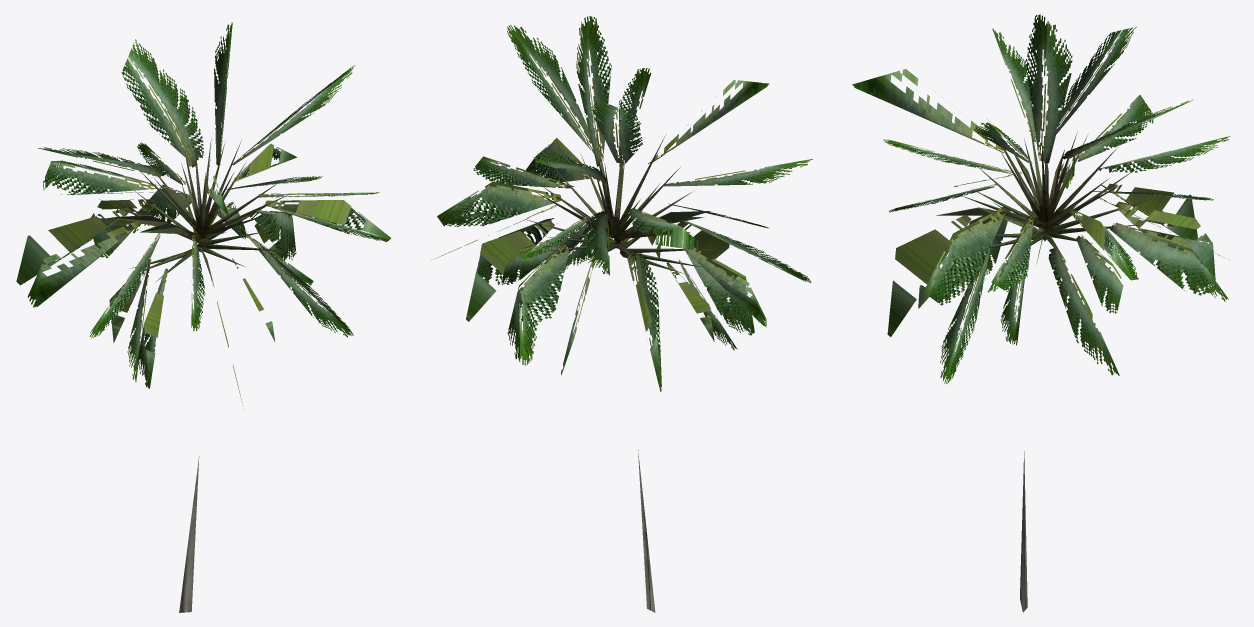
File: tree-palm.lod2.glb
3 views of the same model, side by side, from view 1: azimuth 30°, elevation 25°; view 2: azimuth 150°, elevation 25°; view 3: azimuth 270°, elevation 25° (orthographic). The views are drawn at different scales.
Visible parts, largest first — view 1: SM_MZRa_Palm_B082_MI_MZRa_Palm_B08a_0, SM_MZRa_Palm_B082_MI_MZRa_Palm_B08b_0; view 2: SM_MZRa_Palm_B082_MI_MZRa_Palm_B08a_0, SM_MZRa_Palm_B082_MI_MZRa_Palm_B08b_0; view 3: SM_MZRa_Palm_B082_MI_MZRa_Palm_B08a_0, SM_MZRa_Palm_B082_MI_MZRa_Palm_B08b_0.
Part boxes in pixels (x1,y1,x2,y2): SM_MZRa_Palm_B082_MI_MZRa_Palm_B08a_0: (16, 22, 391, 405); SM_MZRa_Palm_B082_MI_MZRa_Palm_B08b_0: (99, 134, 290, 612); SM_MZRa_Palm_B082_MI_MZRa_Palm_B08a_0: (431, 16, 812, 391); SM_MZRa_Palm_B082_MI_MZRa_Palm_B08b_0: (526, 125, 713, 612); SM_MZRa_Palm_B082_MI_MZRa_Palm_B08a_0: (852, 14, 1230, 384); SM_MZRa_Palm_B082_MI_MZRa_Palm_B08b_0: (936, 111, 1149, 612).
Size of the model in its own units: 6.06 by 10 by 5.65.
Materials: 2 (2 with a texture image).
